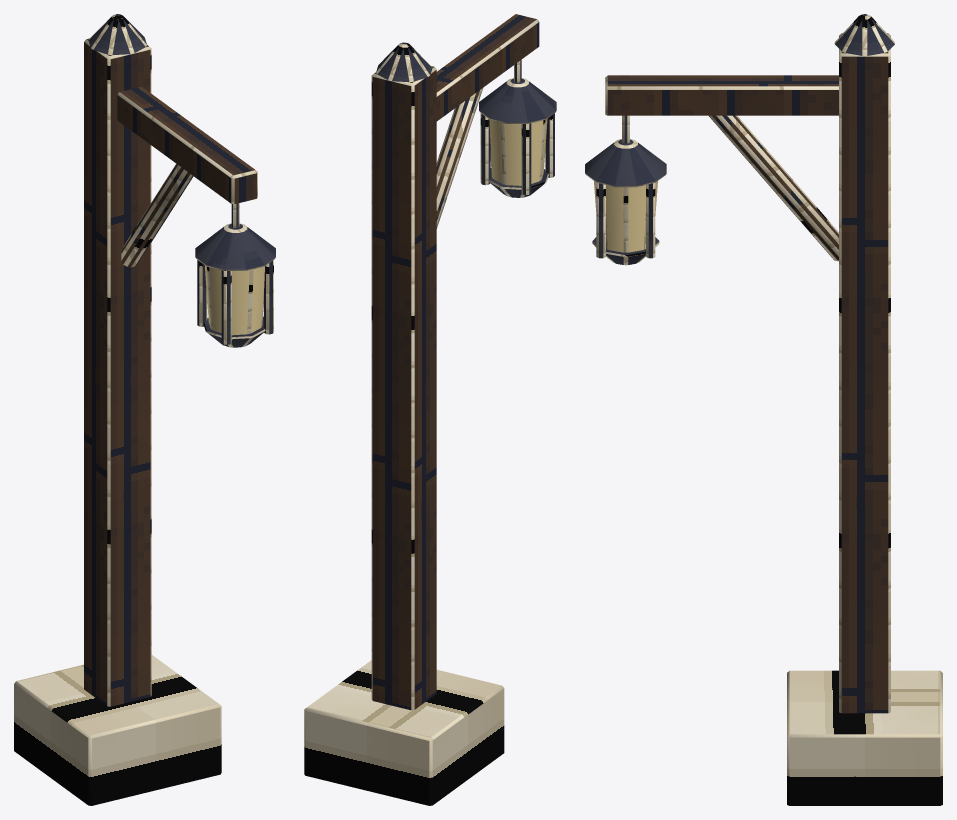
Rendered from lantern_post_1.glb.
The picture shows the model from 3 angles, left to right: view 1: azimuth 30°, elevation 25°; view 2: azimuth 150°, elevation 25°; view 3: azimuth 270°, elevation 25°; orthographic projection. The views are drawn at different scales.
Parts seen in each view (by area): view 1: lantern_post_2; view 2: lantern_post_2; view 3: lantern_post_2.
Part boxes in pixels (x1=…): lantern_post_2: x1=14, y1=14, x2=275, y2=805; lantern_post_2: x1=304, y1=14, x2=556, y2=805; lantern_post_2: x1=585, y1=14, x2=942, y2=805.
Size of the model in its own units: 0.6 by 3.22 by 1.38.
Materials: 4 (4 with a texture image).
